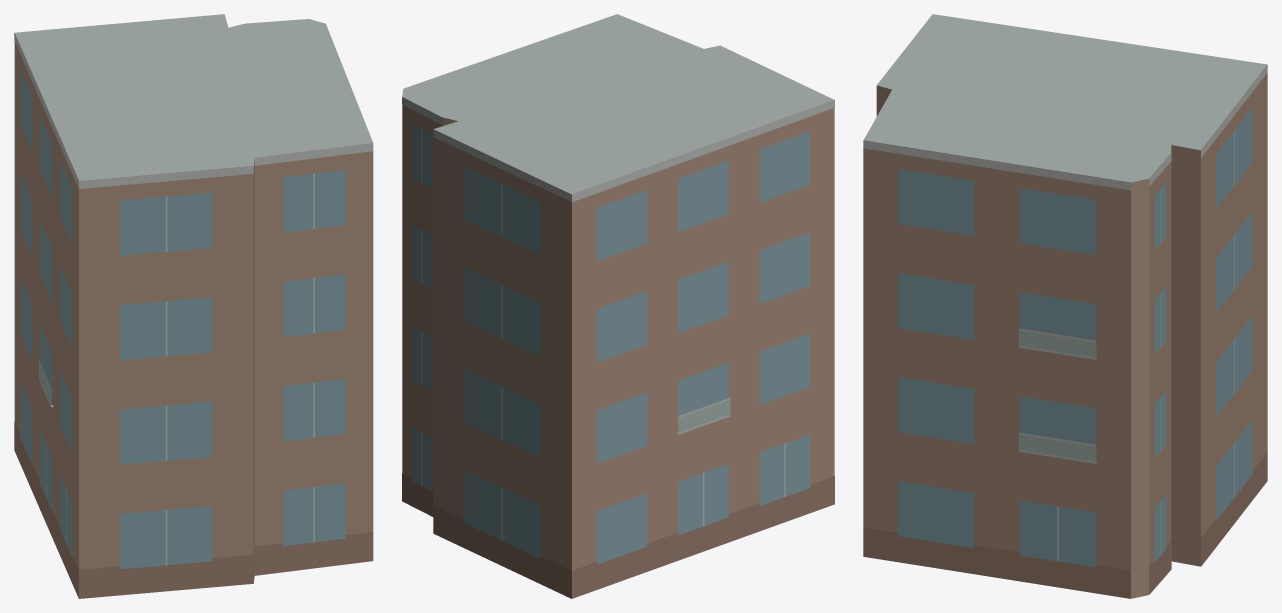
Rendered from survey-upis-32636495.glb.
3 views of the same model, side by side, from view 1: azimuth 30°, elevation 25°; view 2: azimuth 150°, elevation 25°; view 3: azimuth 270°, elevation 25° (orthographic). The views are drawn at different scales.
Visible parts, largest first — view 1: survey-upis-32636495.tmp; view 2: survey-upis-32636495.tmp; view 3: survey-upis-32636495.tmp.
Part boxes in pixels (box(x1,y1,x2,y2)): survey-upis-32636495.tmp: box(14, 14, 373, 598); survey-upis-32636495.tmp: box(402, 14, 834, 598); survey-upis-32636495.tmp: box(863, 14, 1267, 598).
Bounding box in the file's own units: 10.94 × 12.6 × 11.1.
